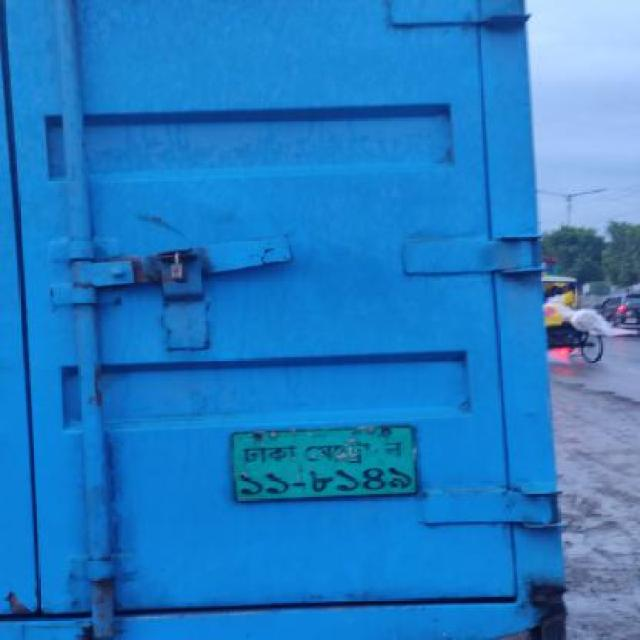numberplate: (230, 422, 418, 503)
